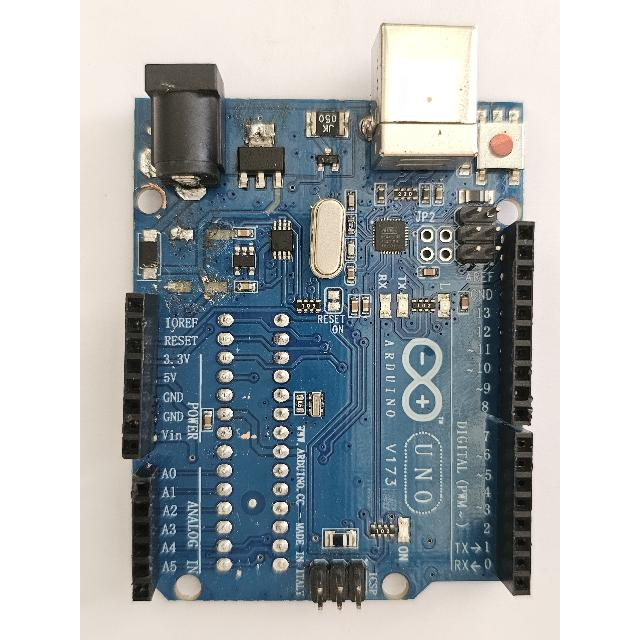missing_atmega: (213, 307, 294, 579)
missing_capacitors: (164, 220, 236, 307)
